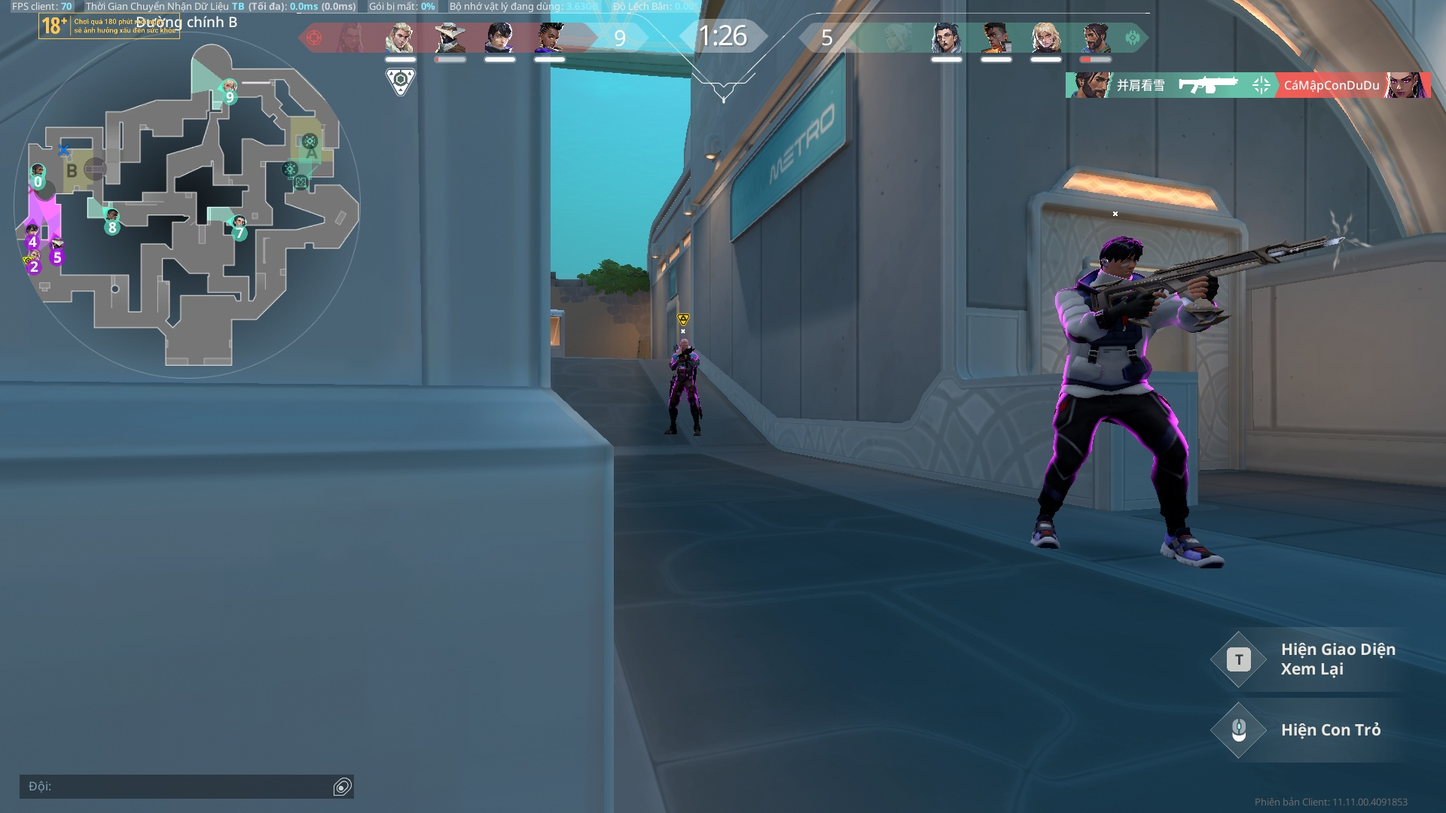body: (1049, 281, 1188, 383), (673, 349, 700, 381)
head: (1099, 235, 1142, 279), (678, 339, 692, 353)
